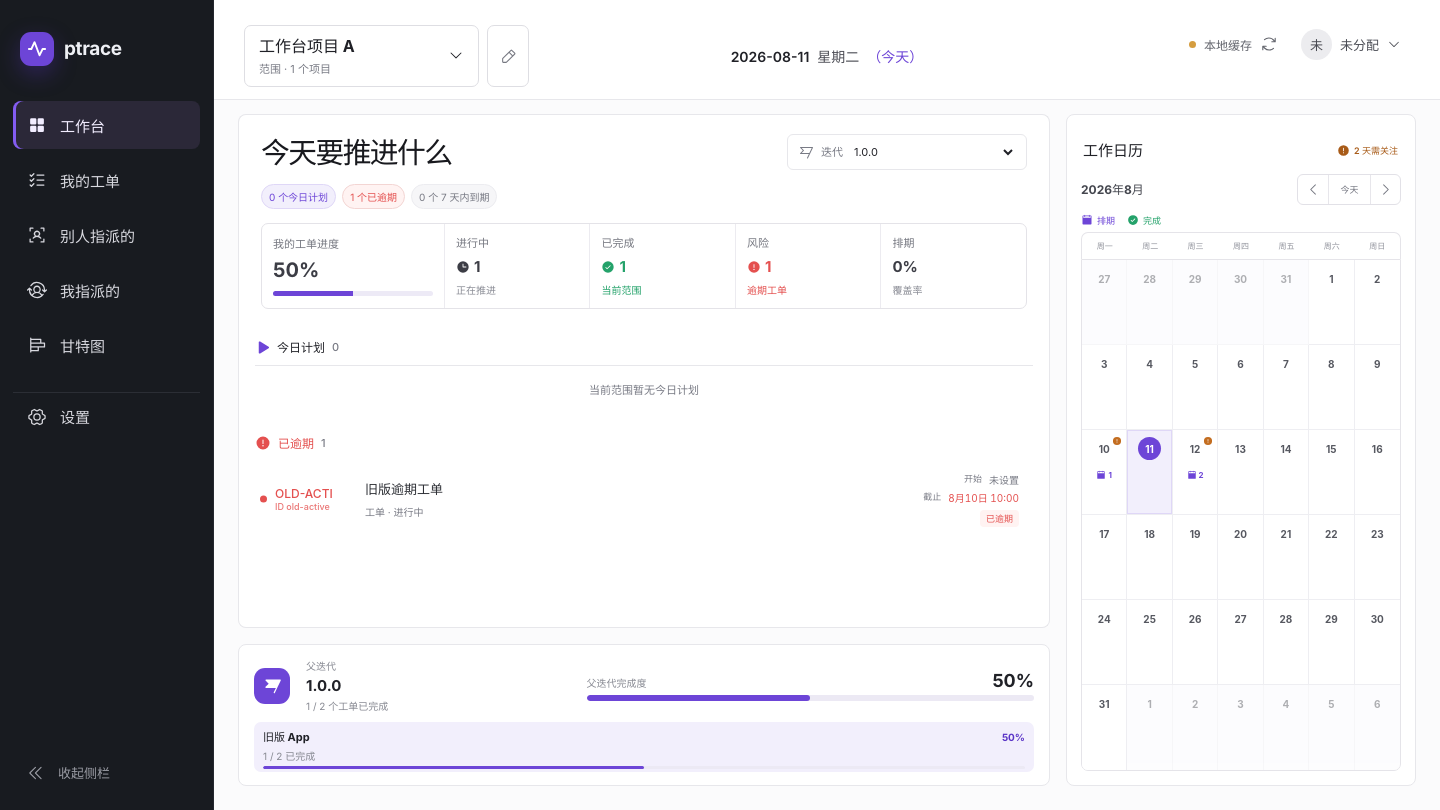
workbench iteration selector › excludes disabled project iterations and provides the unset-iteration view
This screenshot has width=1440, height=810.
Select "未设置迭代" in the dropdown named "工作台父迭代" at (933, 152), box x1=850 y1=144 x2=1016 y2=160
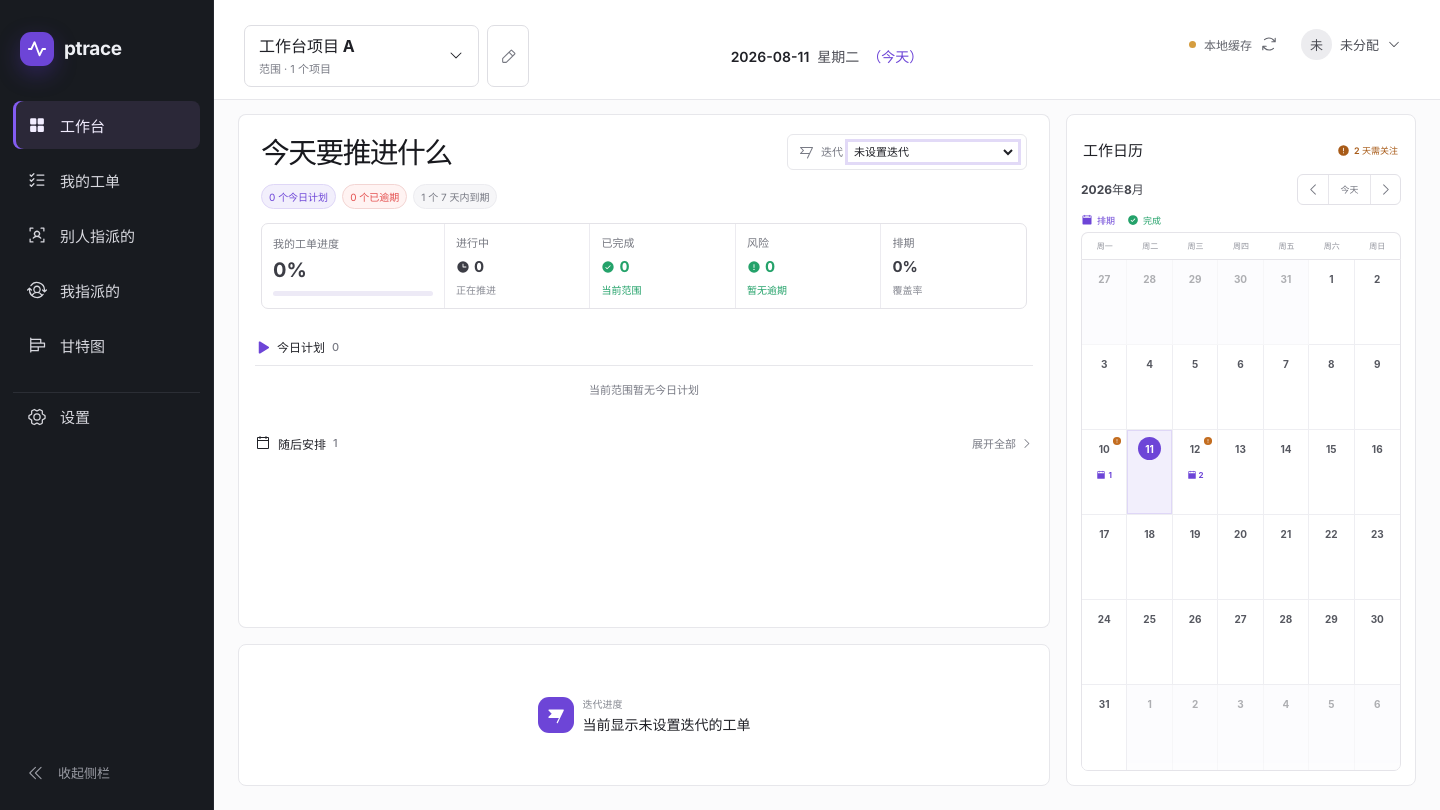
Click the button "随后安排 1 展开全部" at (302, 444), box x1=255 y1=425 x2=1033 y2=461
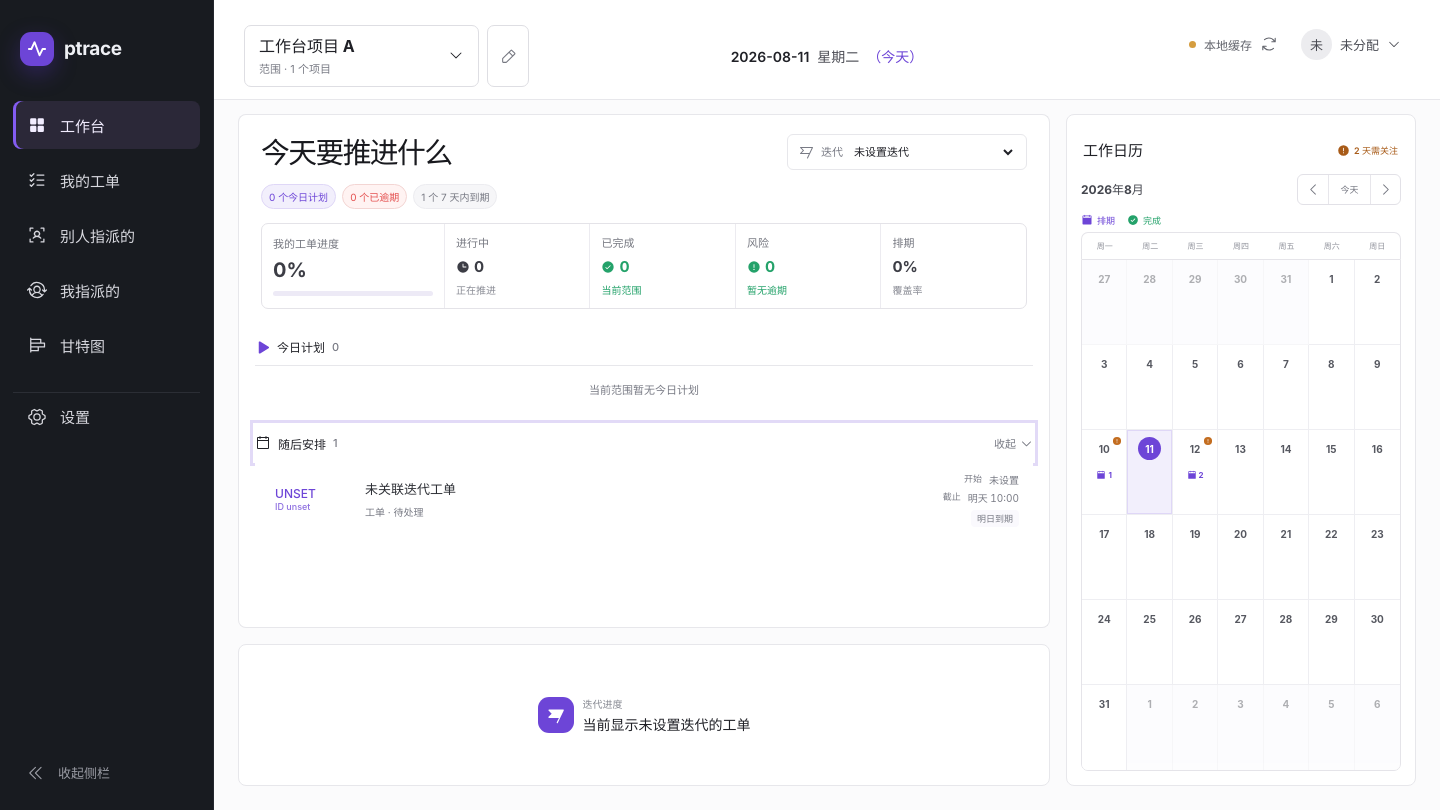
Expected: the text "当前显示未设置迭代的工单" is shown, x1=582 y1=714 x2=750 y2=734
Expected: the text "未关联迭代工单" is shown, x1=365 y1=481 x2=456 y2=497
